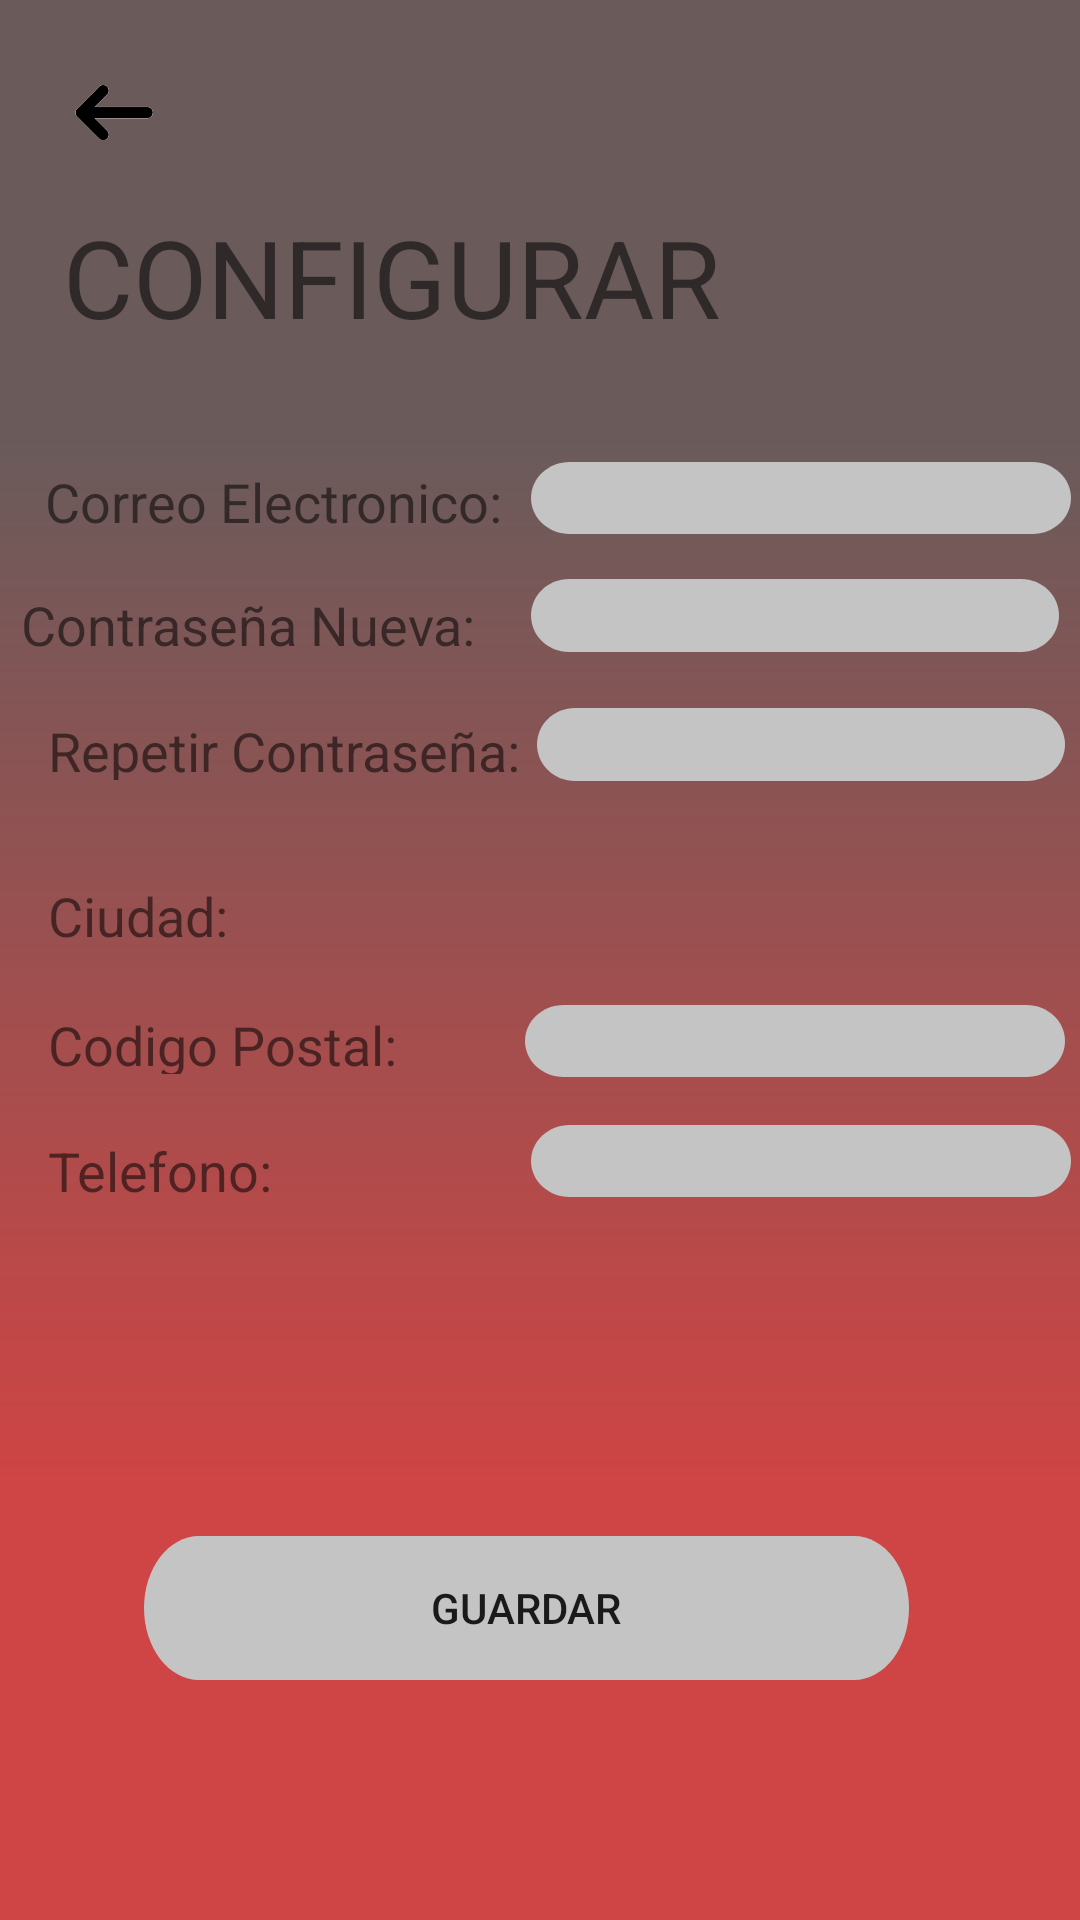

Named icons in this screenshot (1080px x 1920px) and their bounding boxes, (x1, y1, x2, y2):
atras: (75, 85, 153, 140)
